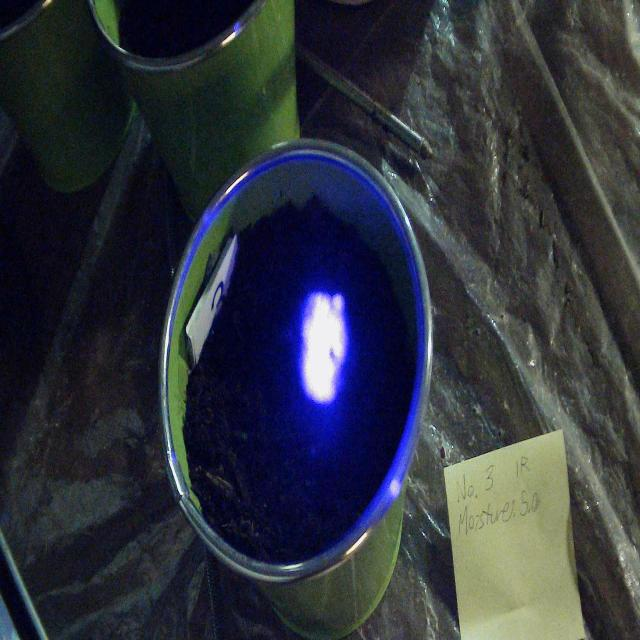soil-moisture-5.0: (299, 293, 348, 404)
